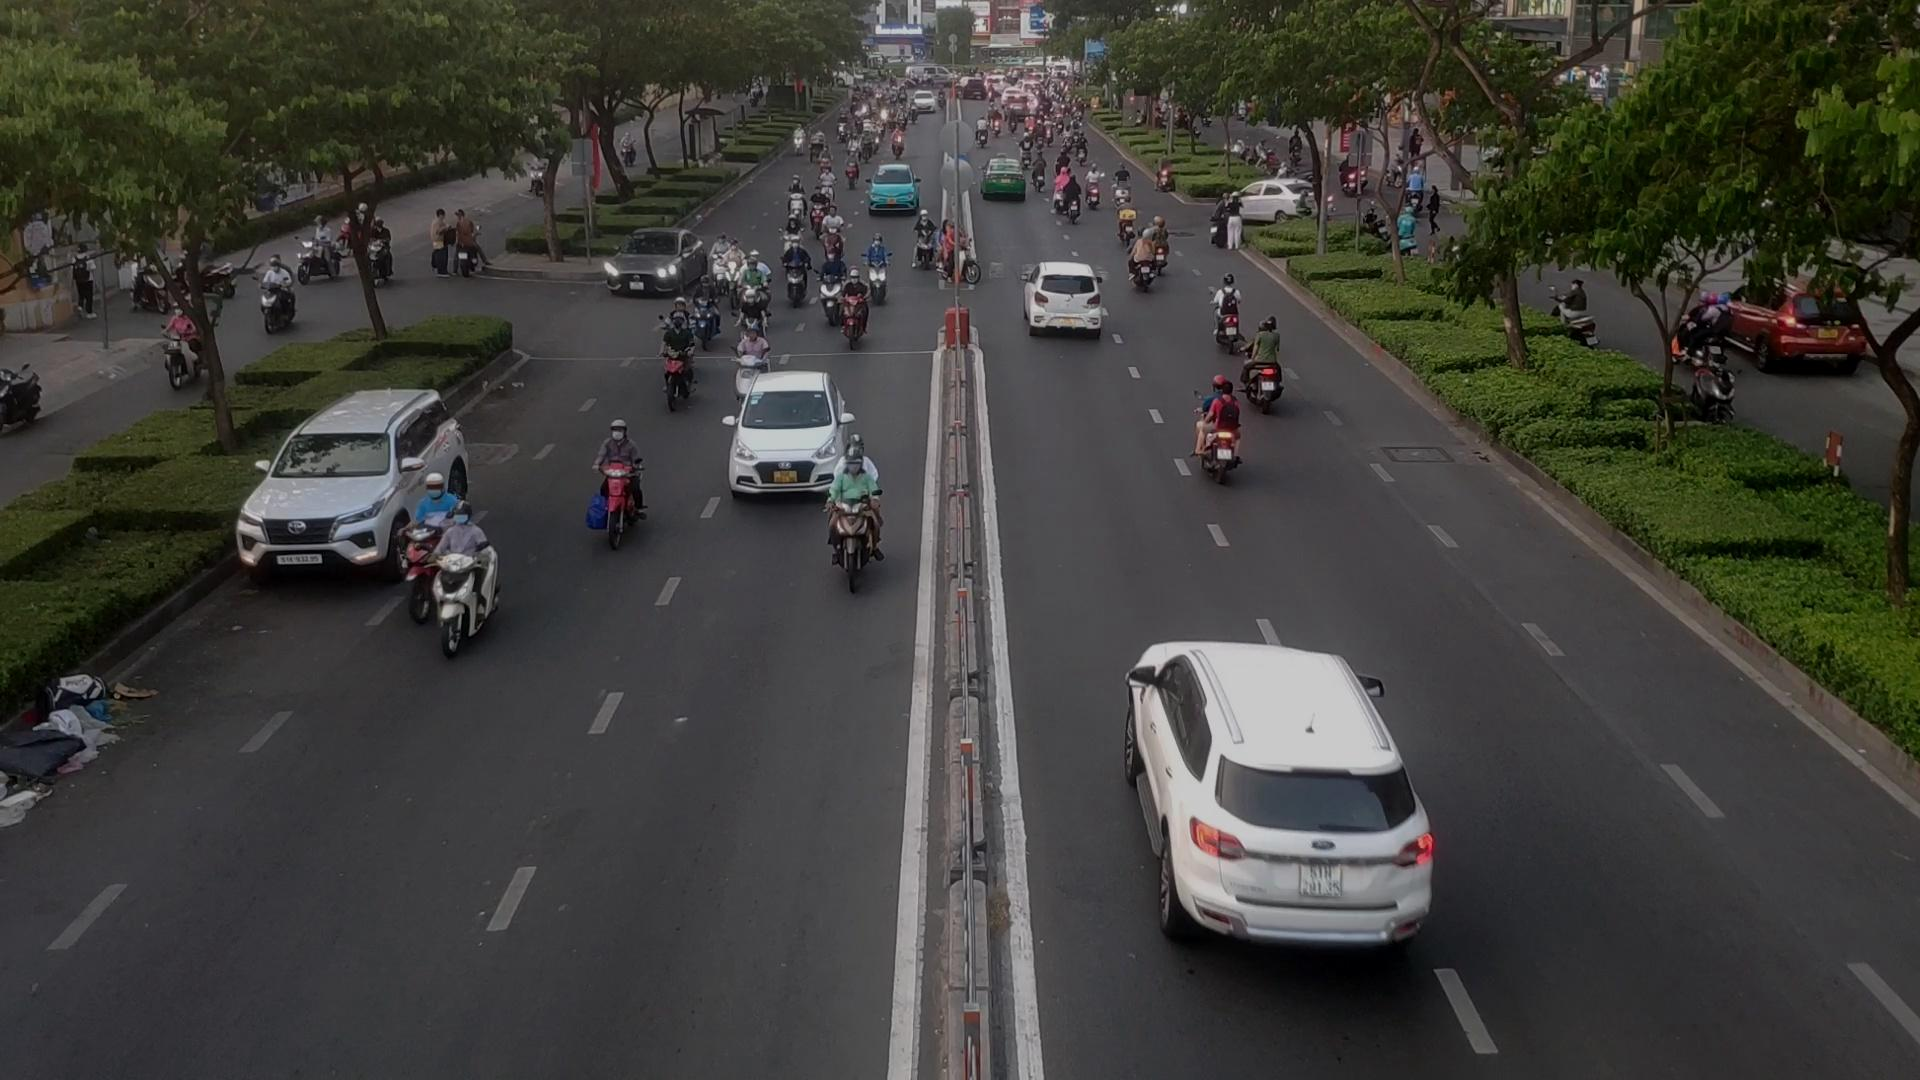car: (1127, 636, 1443, 949), (232, 388, 477, 584), (723, 372, 847, 493), (601, 232, 705, 301), (1029, 261, 1112, 336), (866, 167, 924, 216), (981, 157, 1030, 204)
motorbike: (404, 526, 506, 649), (389, 475, 468, 608), (828, 447, 887, 599), (589, 421, 654, 551), (1197, 378, 1236, 479), (1247, 316, 1284, 406), (659, 326, 698, 401), (729, 342, 781, 397), (942, 225, 981, 285), (742, 256, 777, 319), (844, 273, 869, 355), (1212, 284, 1244, 343), (694, 287, 724, 344), (779, 245, 808, 303), (818, 257, 843, 323), (864, 249, 897, 299), (1126, 240, 1156, 291), (1146, 222, 1176, 266), (725, 237, 745, 306), (824, 210, 852, 255), (910, 218, 931, 269), (708, 241, 727, 294), (1113, 169, 1135, 208), (777, 218, 800, 255), (789, 179, 808, 219), (820, 171, 839, 214), (1116, 206, 1135, 243), (1033, 160, 1050, 198), (810, 191, 823, 236), (1054, 175, 1069, 211), (1067, 178, 1079, 222)
